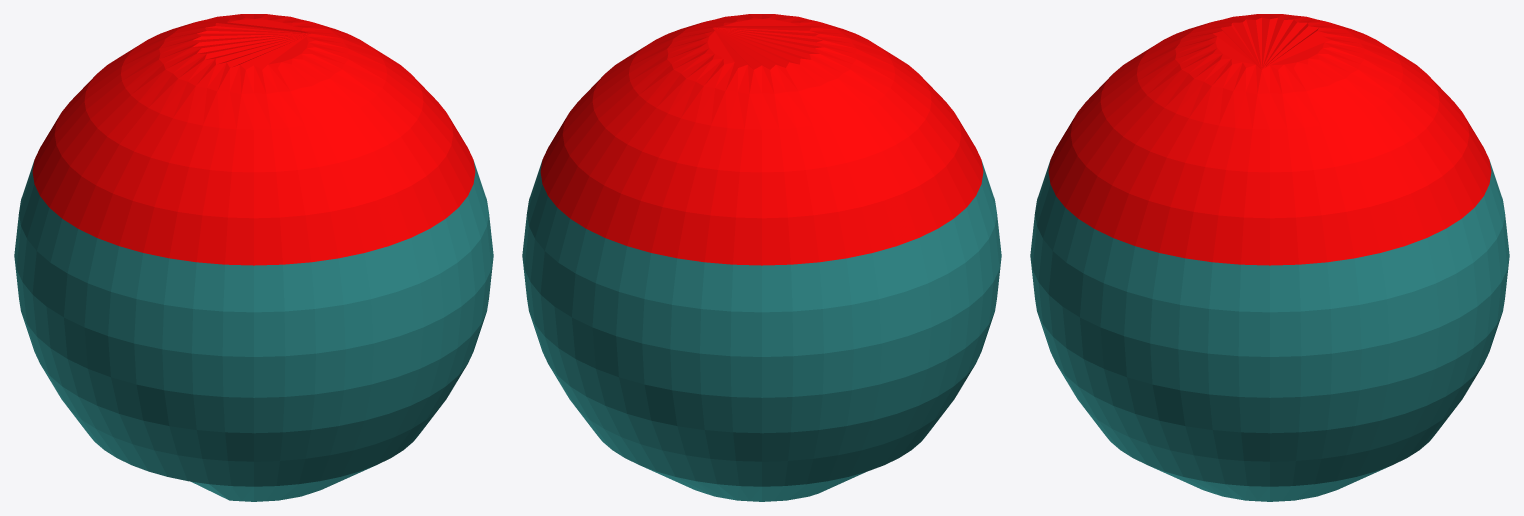
Rendered from AltTerreCut.obj.
The picture shows the model from 3 angles, left to right: view 1: azimuth 30°, elevation 25°; view 2: azimuth 150°, elevation 25°; view 3: azimuth 270°, elevation 25°; orthographic projection.
Parts seen in each view (by area): view 1: TerreCut; view 2: TerreCut; view 3: TerreCut.
Part boxes in pixels (<box>): TerreCut: <box>14,14,493,501</box>; TerreCut: <box>522,14,1001,501</box>; TerreCut: <box>1030,14,1509,501</box>.
Size of the model in its own units: 0.2529 by 0.2443 by 0.2529.
